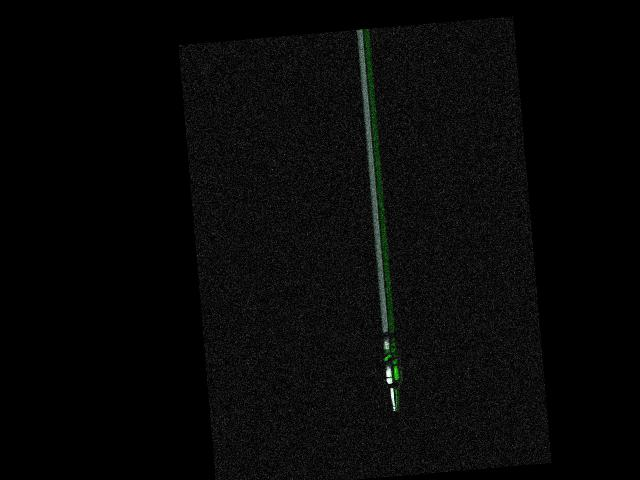beer: (382, 341, 405, 411)
